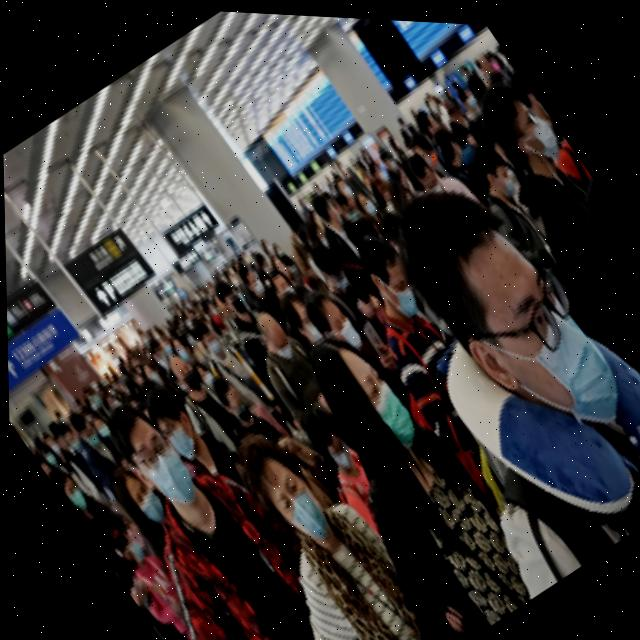Mask: (455, 270, 634, 461), (262, 465, 334, 546), (128, 438, 201, 517), (355, 368, 425, 450), (364, 252, 424, 321), (313, 301, 368, 362), (509, 107, 565, 165), (157, 407, 208, 463), (480, 153, 522, 200), (256, 319, 298, 365), (319, 427, 358, 471), (126, 484, 165, 528), (218, 386, 254, 427), (171, 359, 207, 397), (56, 476, 90, 515), (194, 323, 226, 359), (77, 421, 103, 450)
